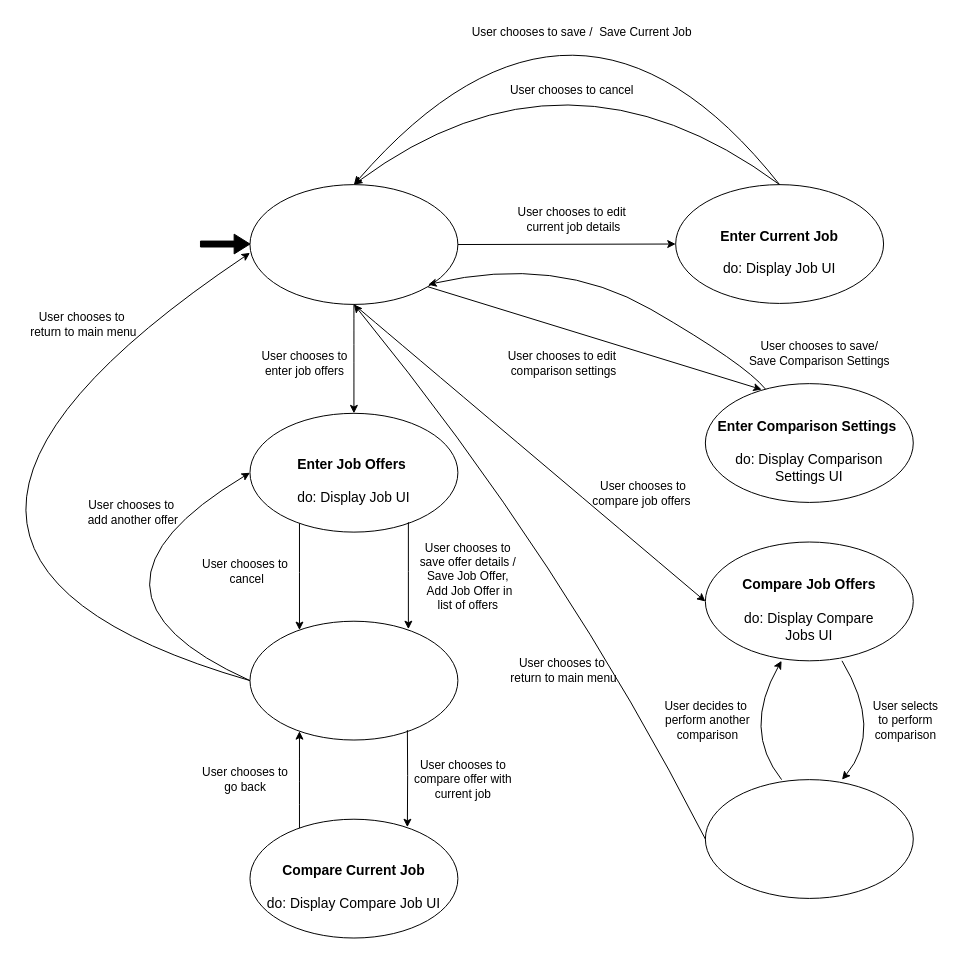
This 966x955 diagram has some shape labels left out. Each missing label, with the centre of its shape:
"Compare Selected Offers do: Display Selected Offers Comparison UI" belongs at pixel 808 838.
"Initialization do: Display Main Menu UI" belongs at pixel 353 244.
"Job Offers Options do: Display Job Offers UI" belongs at pixel 353 680.
